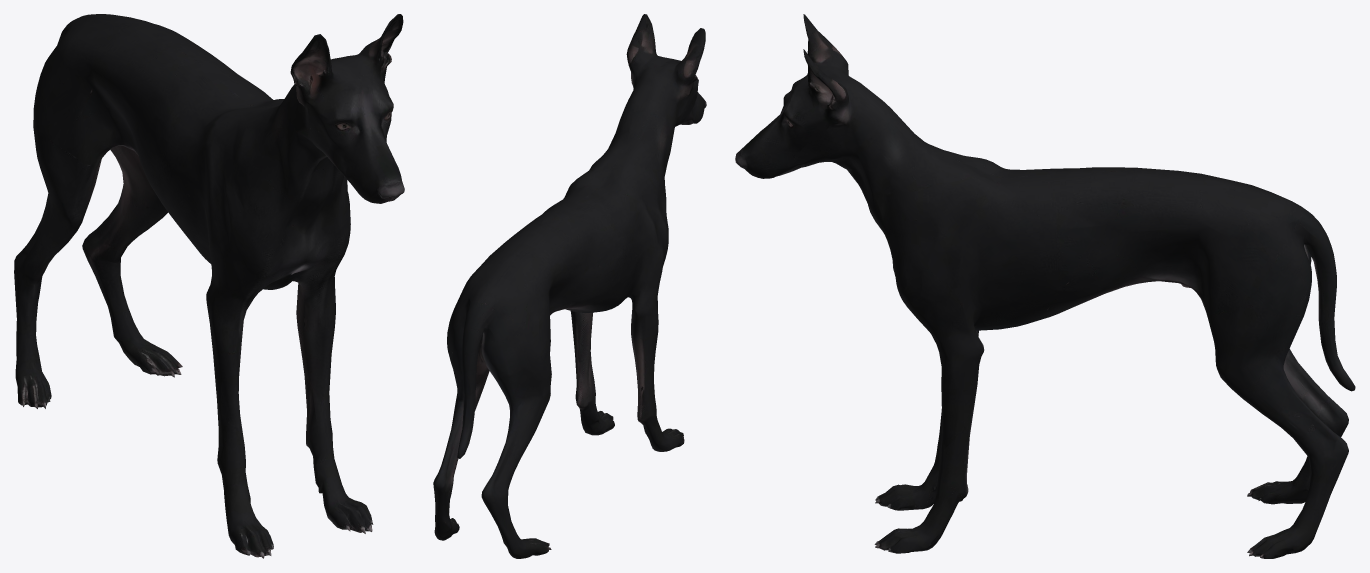
File: hund_schwarz.glb
3 views of the same model, side by side, from view 1: azimuth 30°, elevation 25°; view 2: azimuth 150°, elevation 25°; view 3: azimuth 270°, elevation 25° (orthographic). The views are drawn at different scales.
Size of the model in its own units: 0.5035 by 1.66 by 1.9.
Materials: 1 (1 with a texture image).
